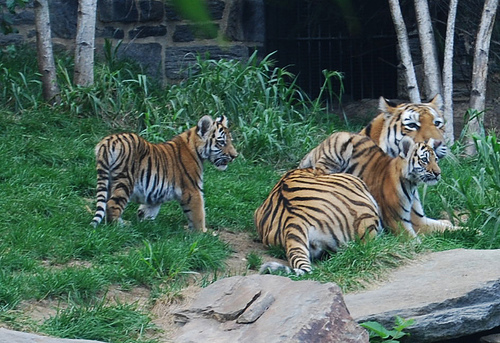Tigre: (276, 95, 480, 268), (71, 99, 245, 236), (361, 137, 454, 212)
